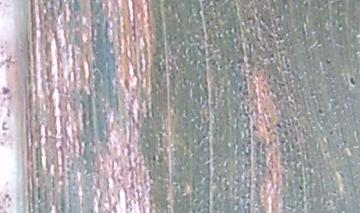tarspot: (347, 75, 358, 88), (324, 57, 333, 66), (298, 184, 305, 194), (318, 105, 325, 115), (151, 154, 158, 161)
